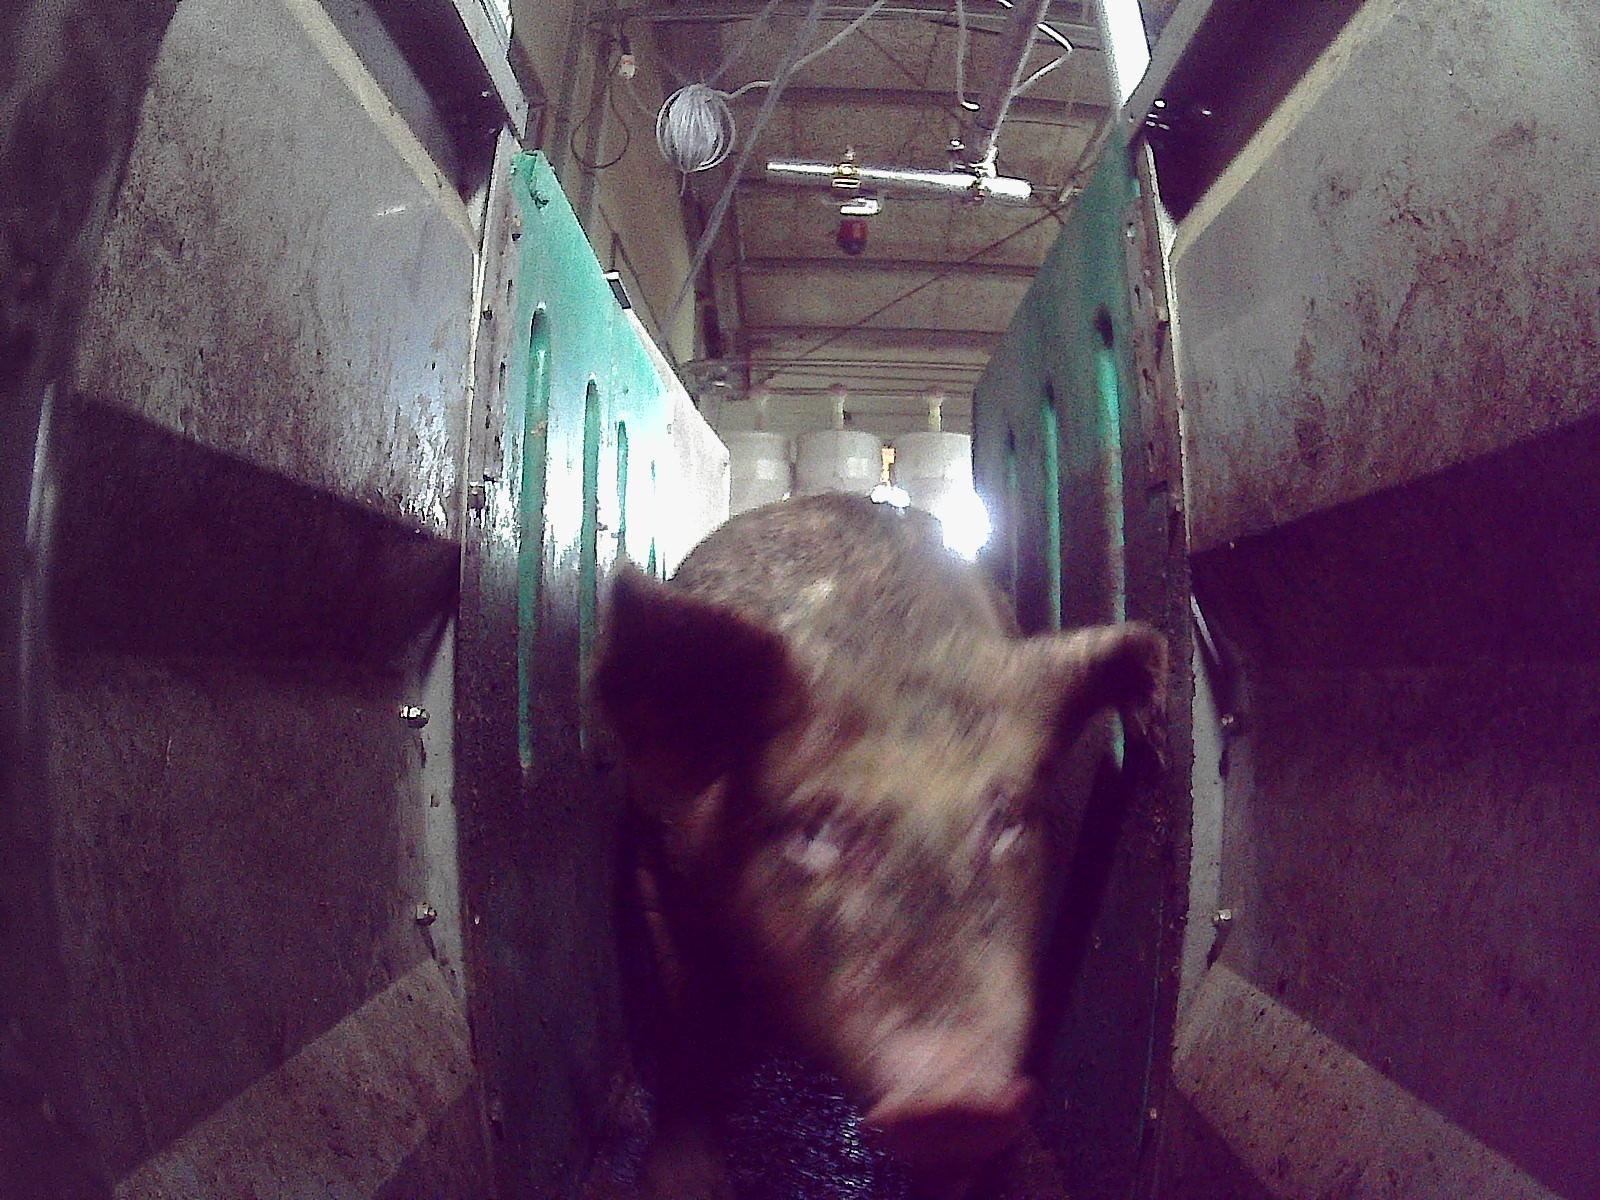Face: (711, 651, 1043, 1160)
